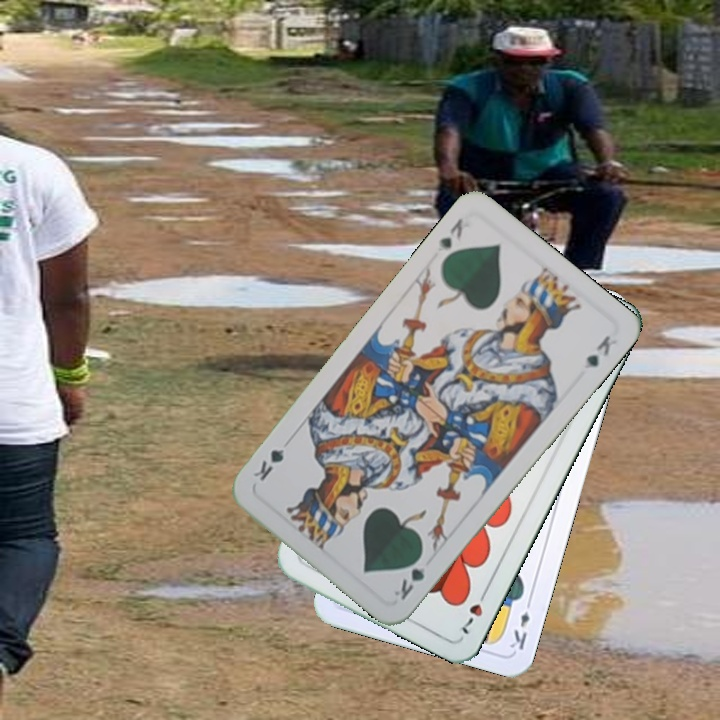EK: (506, 594, 535, 653)
GK: (389, 549, 428, 603), (433, 213, 466, 256)
H7: (456, 584, 491, 637)
